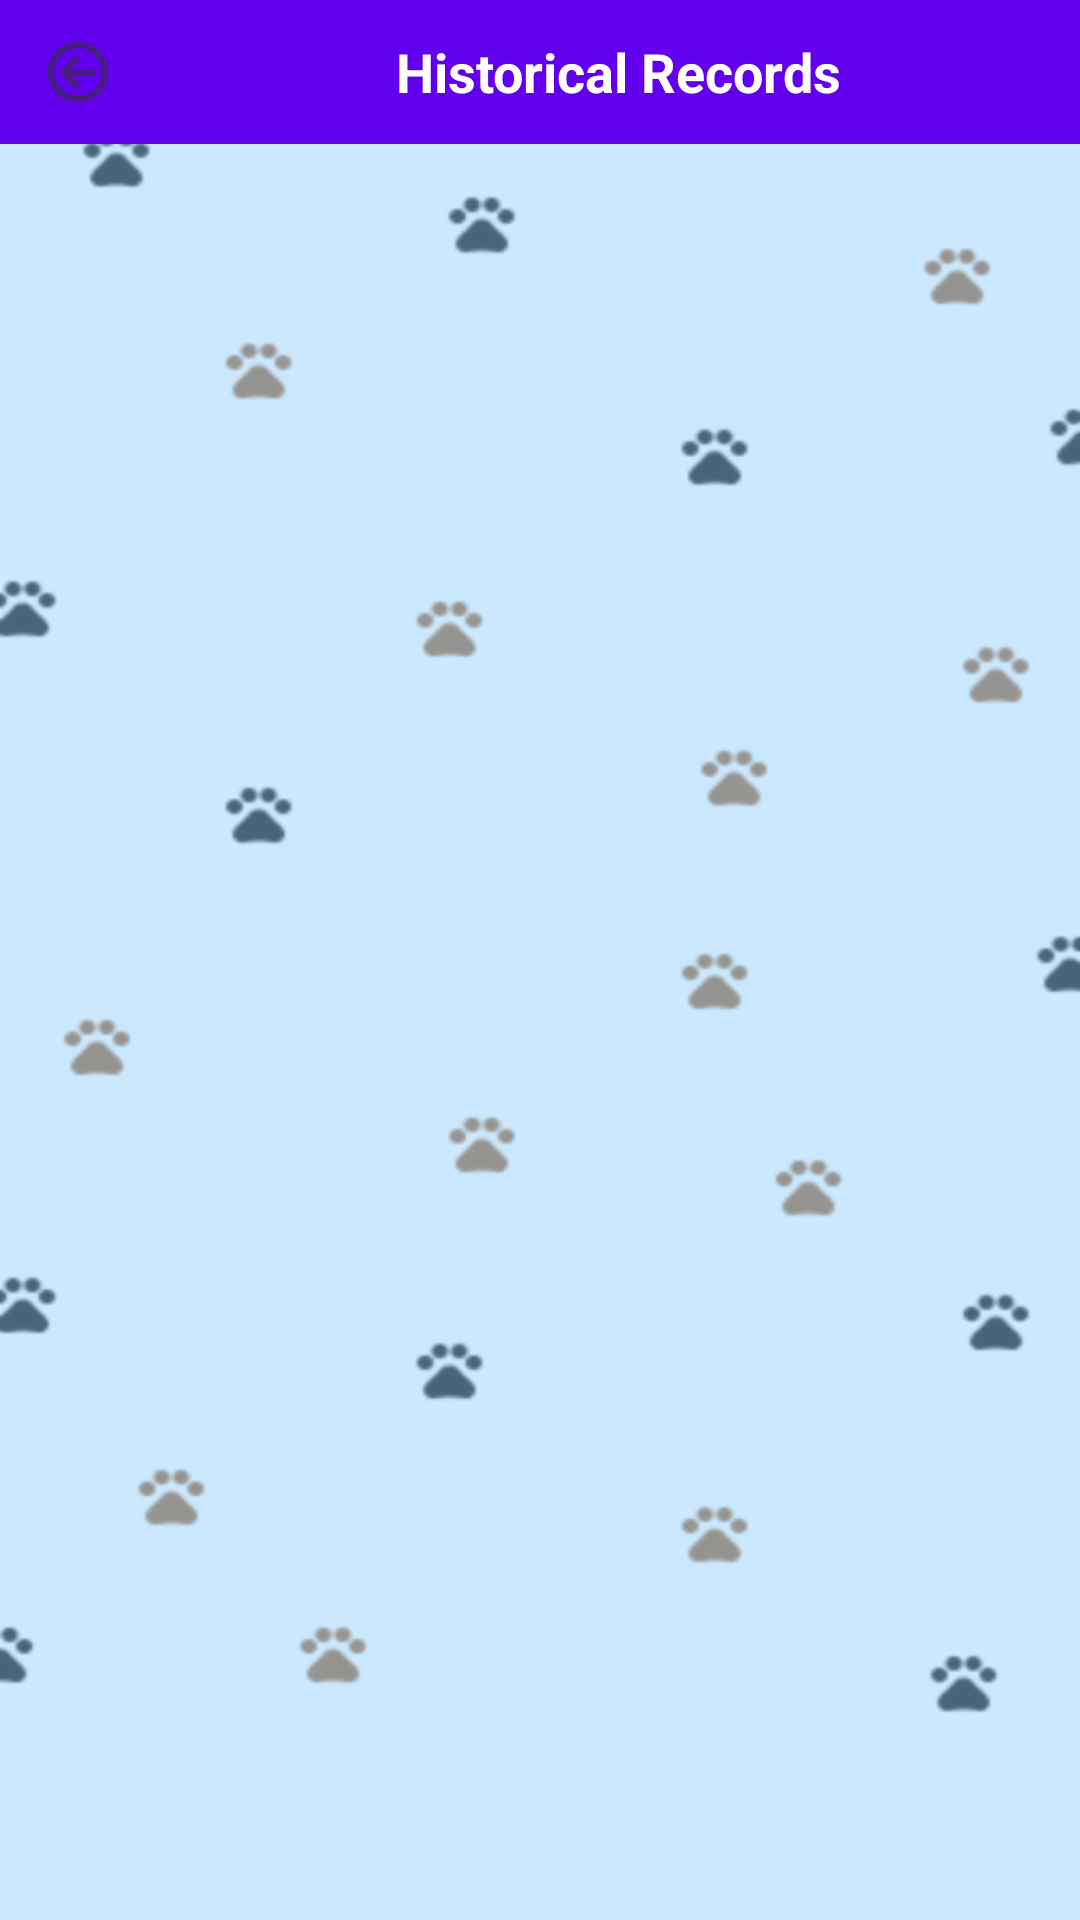

Point at icon controls on the screen. Image size 1080×1920, points as (x=x, y=y).
back arrow: (x=78, y=72)
